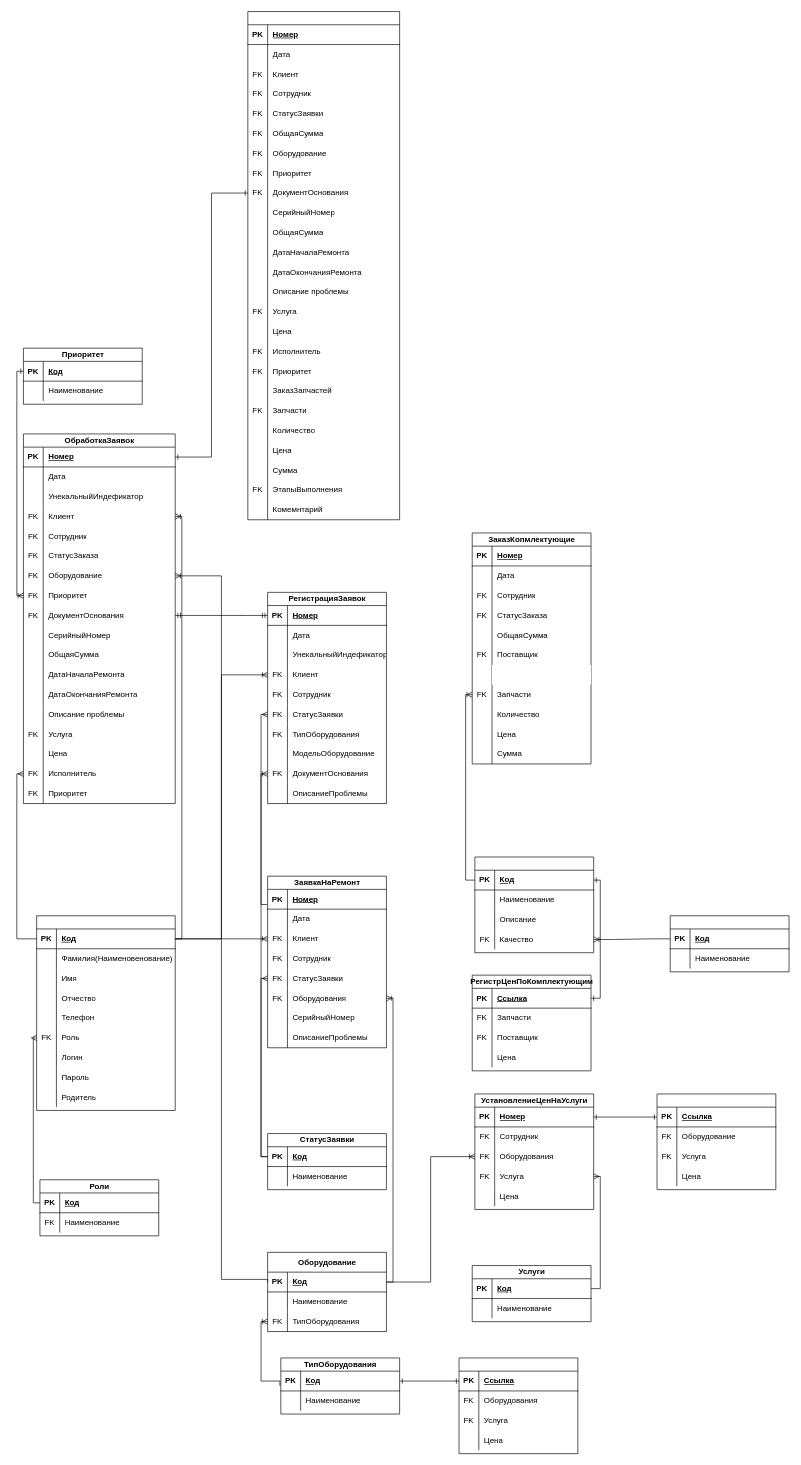
Image size: 801x1465. Some labels were removed from this diagram. The shapes that lost their labels are listed below. From the top down, each one's box as (x1, y1, x2, y2) in pixels, then its label:
(247, 11, 400, 520): ИсполнениеЗаявки
(474, 856, 594, 953): Коплектующие
(670, 915, 789, 972): КатегорияКачества
(36, 915, 175, 1110): Пользователи
(656, 1093, 776, 1190): РегистрЦенУслуга
(458, 1357, 578, 1454): РегистрЦенТипОборудования
